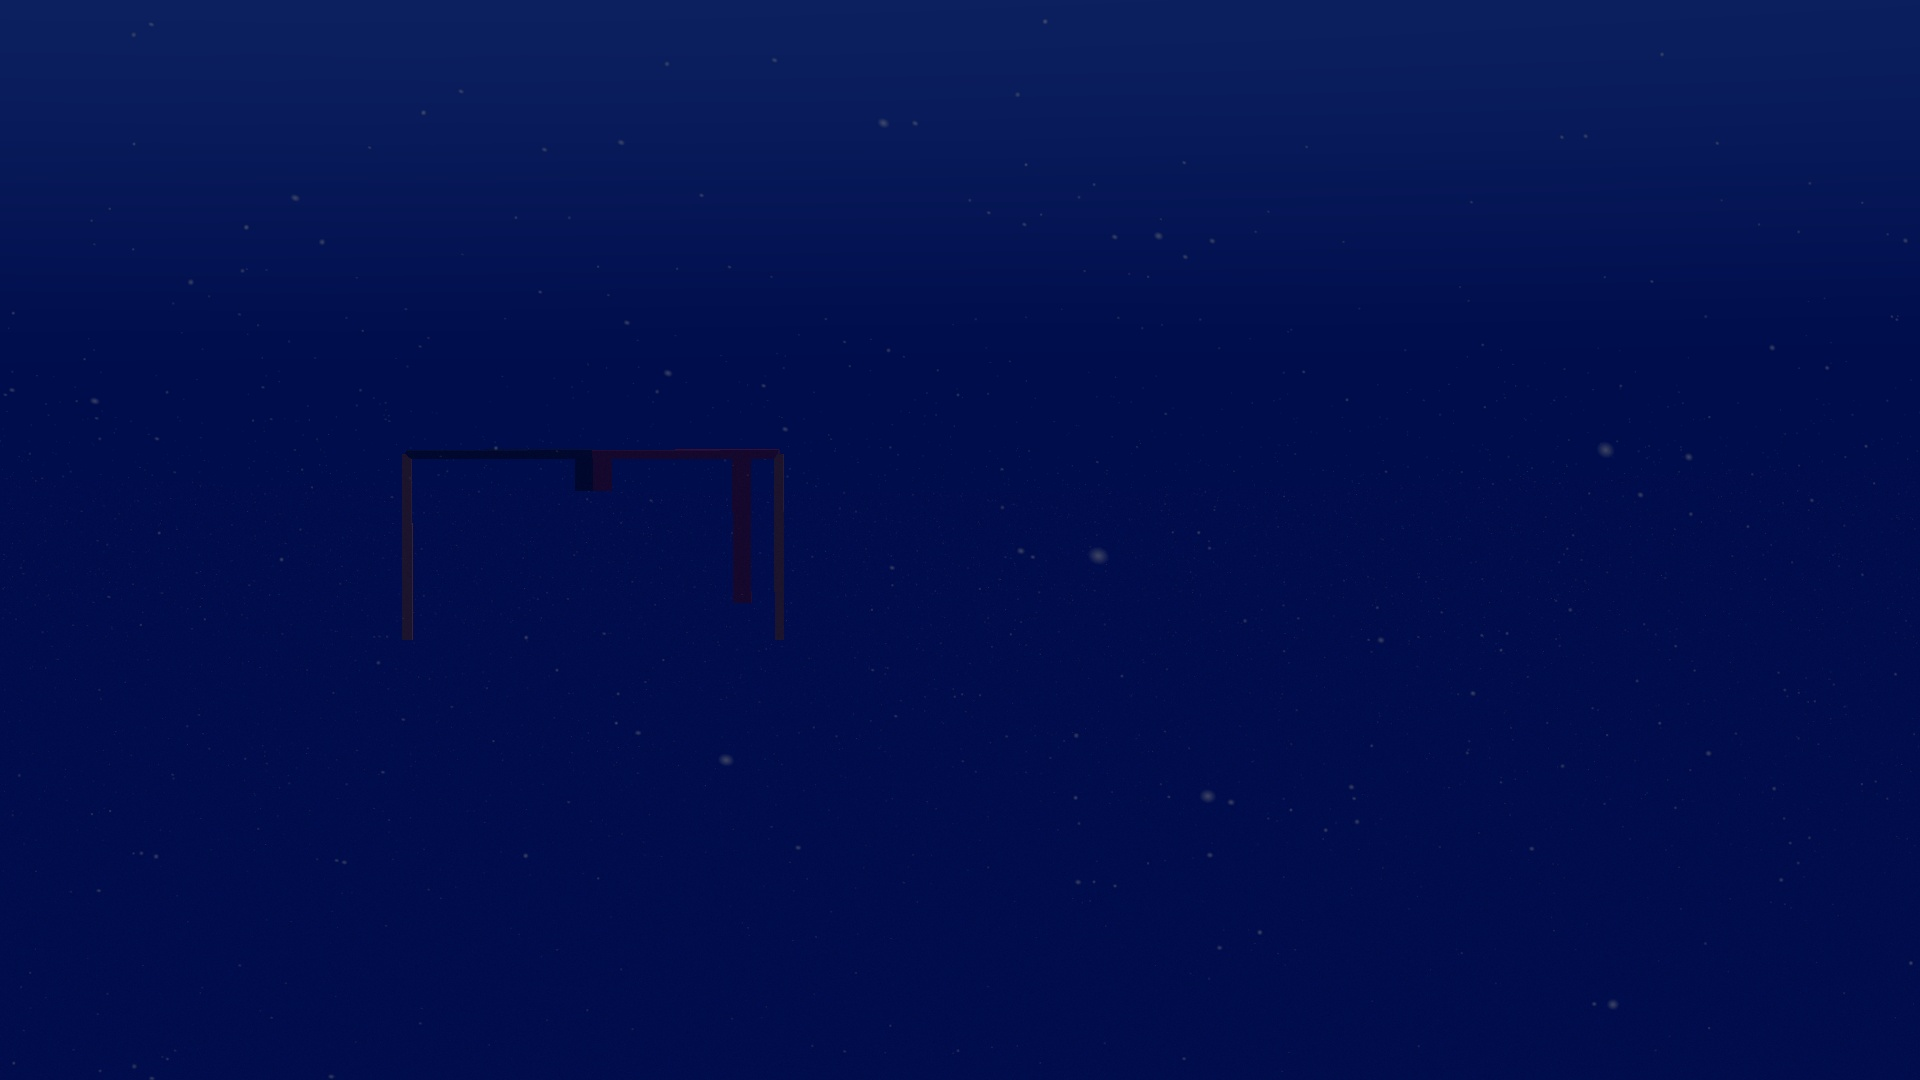Gate: (392, 439, 796, 647)
